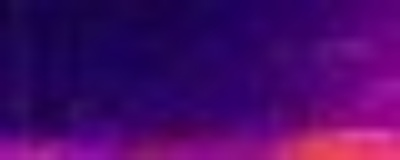Shadow: (1, 1, 399, 128), (1, 129, 281, 159)
